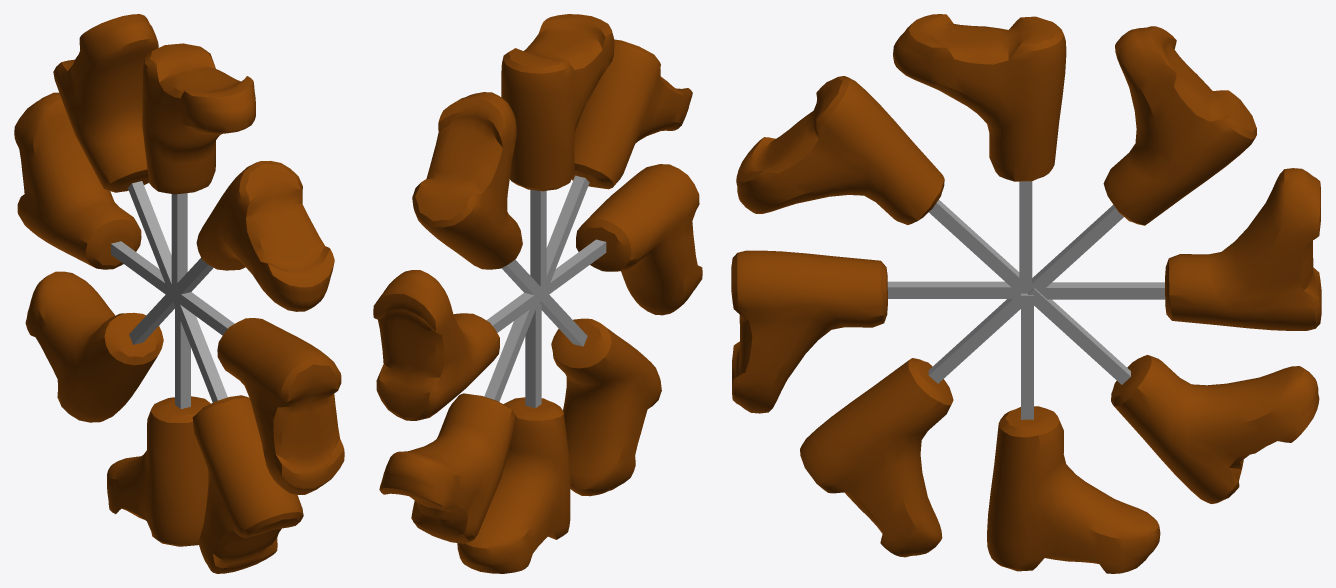
The model's file is RotasBotas.fbx.
3 views of the same model, side by side, from view 1: azimuth 30°, elevation 25°; view 2: azimuth 150°, elevation 25°; view 3: azimuth 270°, elevation 25° (orthographic). The views are drawn at different scales.
Parts seen in each view (by area): view 1: Interior.006; view 2: Interior.006; view 3: Interior.006.
Part boxes in pixels (box(x1,y1,x2,y2)): Interior.006: box(14, 14, 344, 573); Interior.006: box(373, 14, 702, 573); Interior.006: box(731, 14, 1321, 573).
Size of the model in its own units: 7.3 by 47.38 by 48.03.
Materials: 1 (1 with a texture image).
